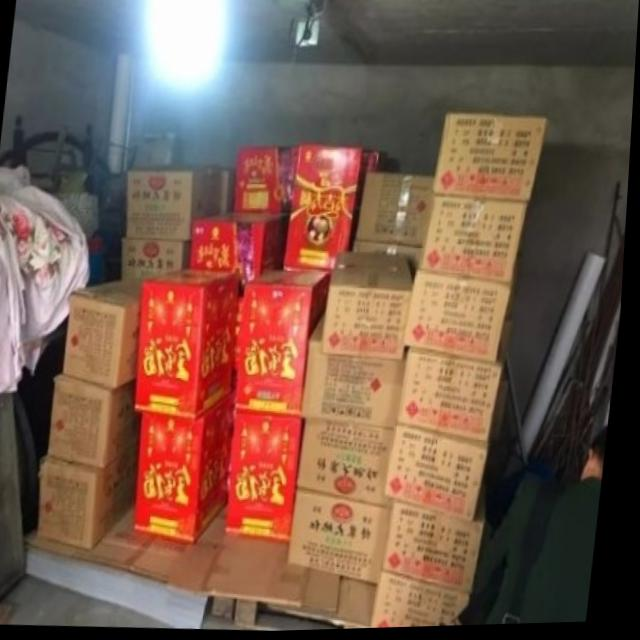box: (139, 270, 243, 421), (137, 395, 239, 546), (240, 271, 333, 417), (305, 313, 410, 432), (389, 489, 492, 597), (43, 442, 144, 552), (294, 491, 399, 586), (434, 118, 549, 204), (232, 412, 308, 542), (390, 429, 495, 522), (422, 196, 530, 286), (287, 148, 365, 272), (326, 255, 416, 362), (408, 275, 516, 363), (404, 350, 506, 443), (302, 419, 402, 513), (53, 376, 144, 468), (68, 282, 146, 388), (190, 214, 290, 292), (128, 166, 224, 242), (379, 572, 478, 630), (359, 175, 436, 247), (234, 148, 303, 216), (126, 240, 192, 282), (354, 240, 426, 275)
